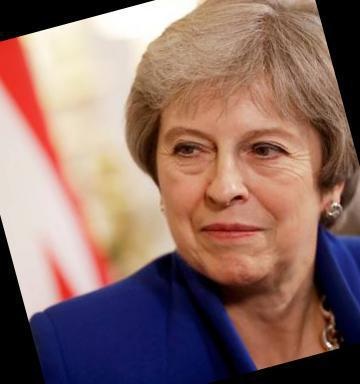Sober: (156, 98, 318, 284)
